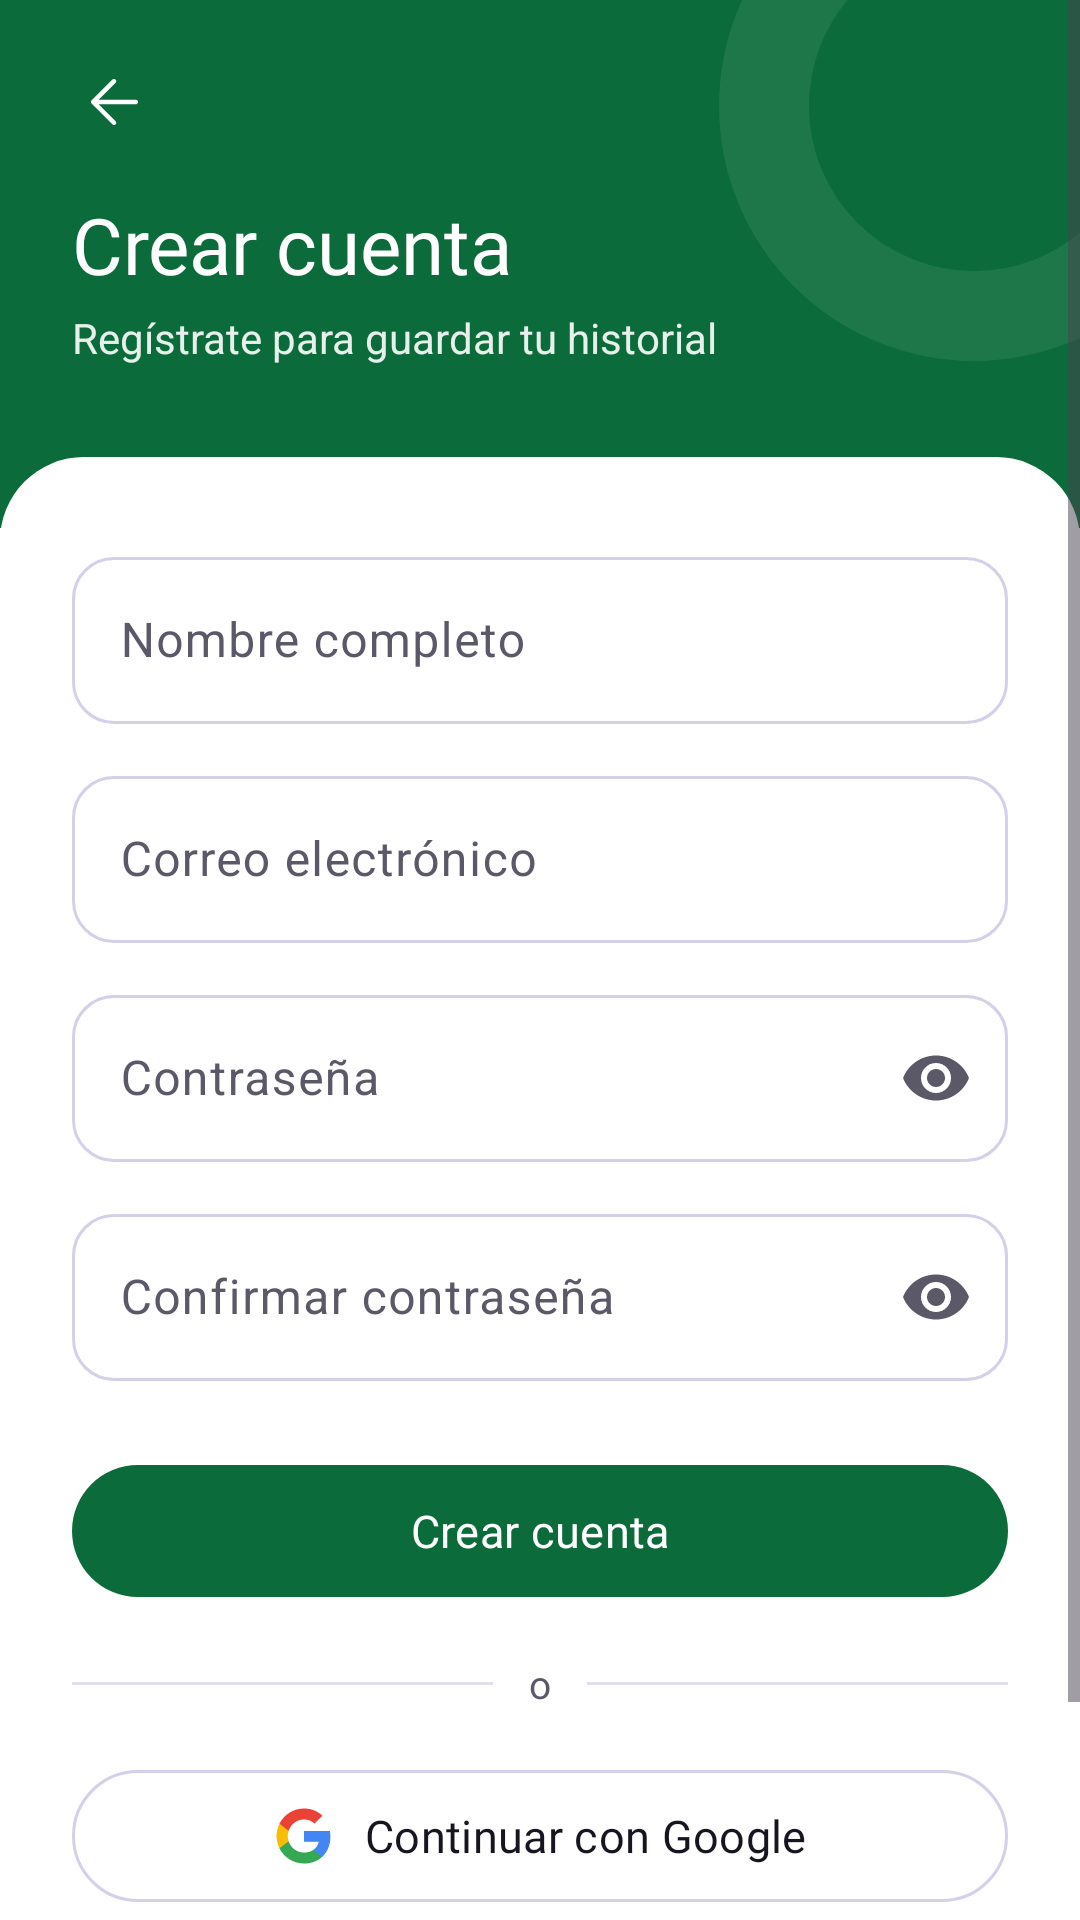

Screen size 1080x1920. Icon name, then its box in pixels as [x1,y1,x2,y2]:
Volver atrás: [91,79,138,125]
